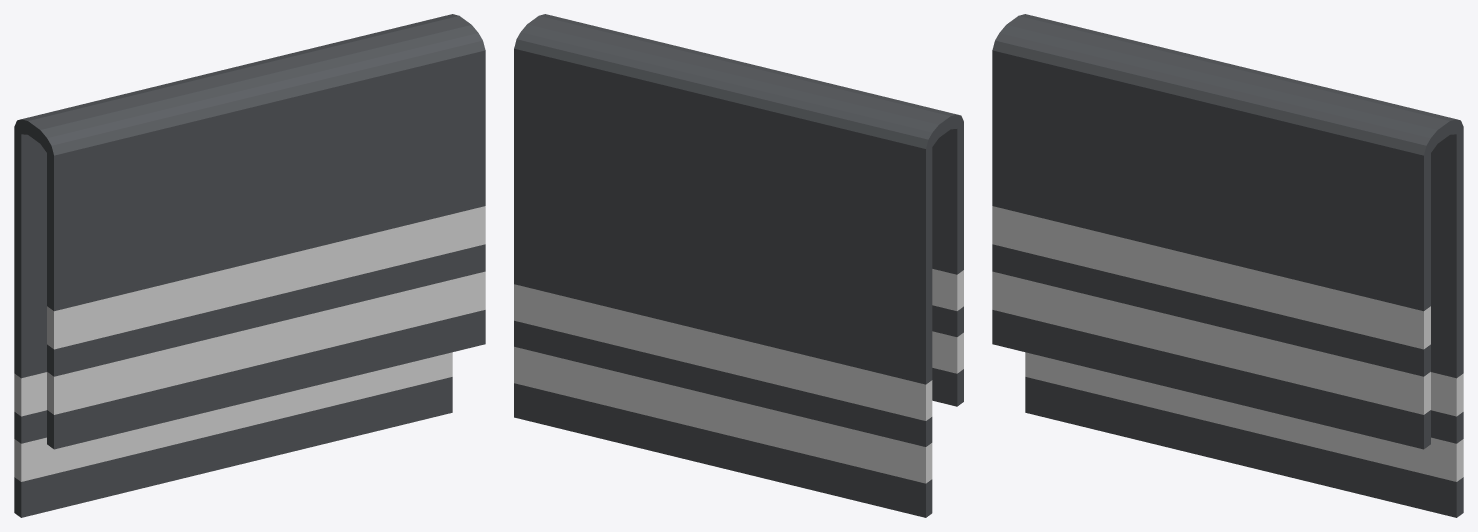
Rendered from Towel_03.fbx.
3 views of the same model, side by side, from view 1: azimuth 30°, elevation 25°; view 2: azimuth 150°, elevation 25°; view 3: azimuth 330°, elevation 25° (orthographic). The views are drawn at different scales.
Parts seen in each view (by area): view 1: Towel_03; view 2: Towel_03; view 3: Towel_03.
Part boxes in pixels (<box>): Towel_03: <box>14,14,485,517</box>; Towel_03: <box>514,14,963,517</box>; Towel_03: <box>992,14,1463,517</box>.
Size of the model in its own units: 35.79 by 31.86 by 5.7.
